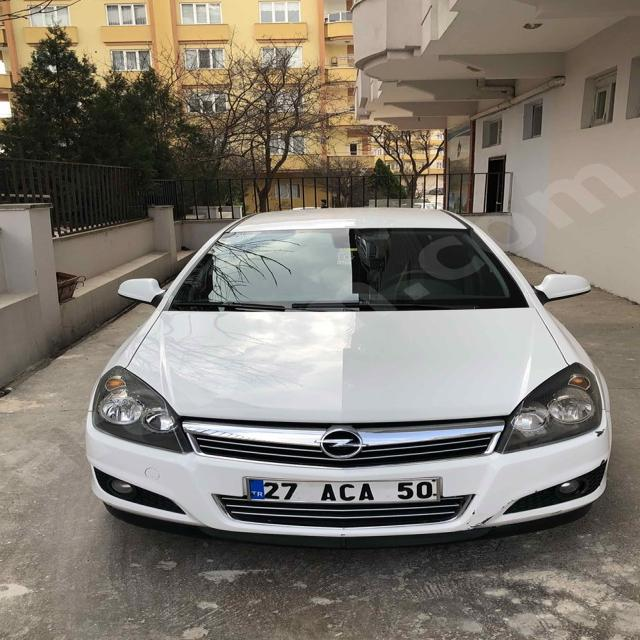license_plate: (245, 478, 441, 503)
